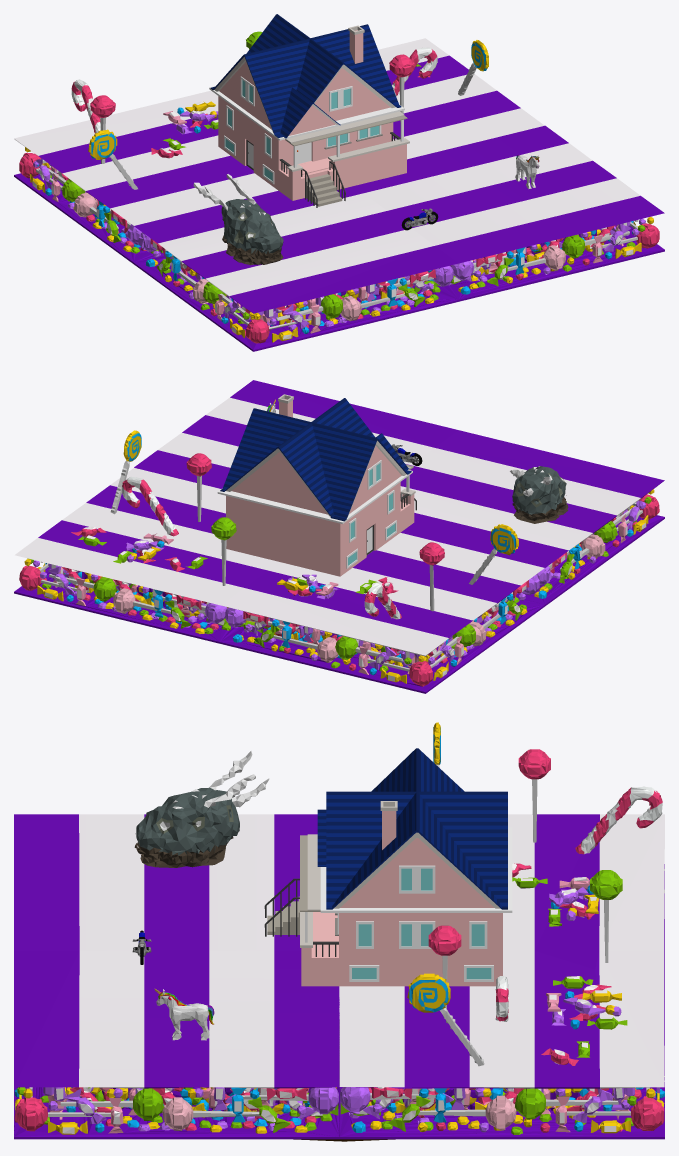
3 views of the same model, one above another, from view 1: azimuth 30°, elevation 25°; view 2: azimuth 150°, elevation 25°; view 3: azimuth 270°, elevation 25° (orthographic). The views are drawn at different scales.
Visible parts, largest first — view 1: TERRAIN_CANDY, Cube.313, OBJRANDOM_METEORITE, ANIMAL_UNICORNIO; view 2: TERRAIN_CANDY, Cube.313, OBJRANDOM_METEORITE; view 3: TERRAIN_CANDY, Cube.313, OBJRANDOM_METEORITE, ANIMAL_UNICORNIO.
Boxes of the visible parts, x1,y1,x2,y2 form: TERRAIN_CANDY: [14, 31, 664, 351]; Cube.313: [209, 14, 409, 207]; OBJRANDOM_METEORITE: [193, 174, 283, 265]; ANIMAL_UNICORNIO: [515, 154, 539, 188]; TERRAIN_CANDY: [14, 380, 664, 693]; Cube.313: [217, 394, 416, 576]; OBJRANDOM_METEORITE: [510, 466, 568, 523]; TERRAIN_CANDY: [14, 722, 664, 1139]; Cube.313: [264, 748, 512, 986]; OBJRANDOM_METEORITE: [134, 751, 269, 867]; ANIMAL_UNICORNIO: [154, 988, 214, 1040].
Size of the model in its own units: 4059 by 1650 by 4000.
Materials: 36 (2 with a texture image).
